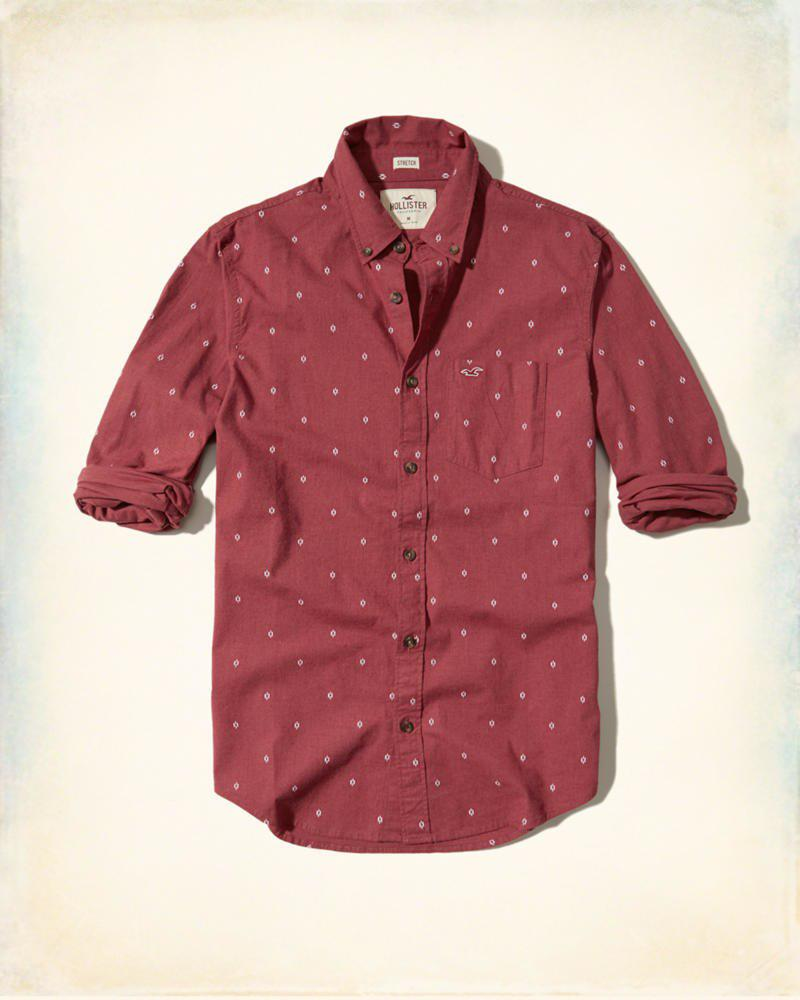teeshirt: (58, 104, 750, 875)
